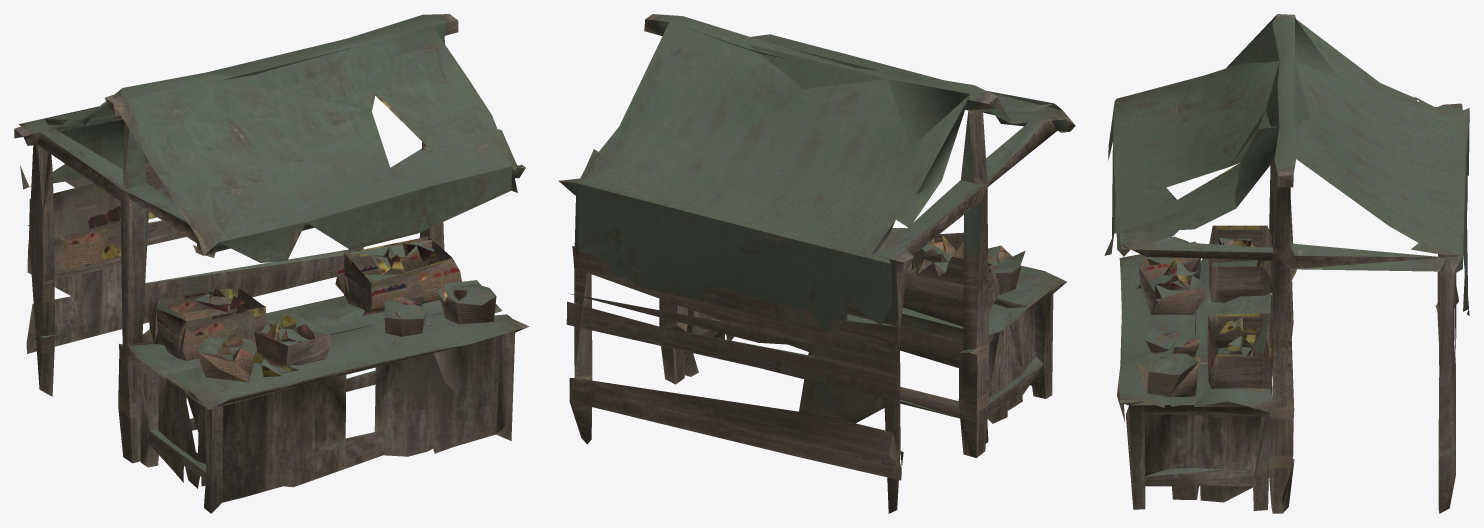
File: BarracaFrutasEldoria-lod1.glb
3 views of the same model, side by side, from view 1: azimuth 30°, elevation 25°; view 2: azimuth 150°, elevation 25°; view 3: azimuth 270°, elevation 25° (orthographic). The views are drawn at different scales.
Visible parts, largest first — view 1: BarracaFrutasEldoria_LOD1; view 2: BarracaFrutasEldoria_LOD1; view 3: BarracaFrutasEldoria_LOD1.
Part boxes in pixels (<box>): BarracaFrutasEldoria_LOD1: <box>14,14,529,513</box>; BarracaFrutasEldoria_LOD1: <box>558,14,1075,513</box>; BarracaFrutasEldoria_LOD1: <box>1104,14,1469,513</box>.
Bounding box in the file's own units: 1.9 × 1.89 × 1.79.
1 material, 1 textured.
